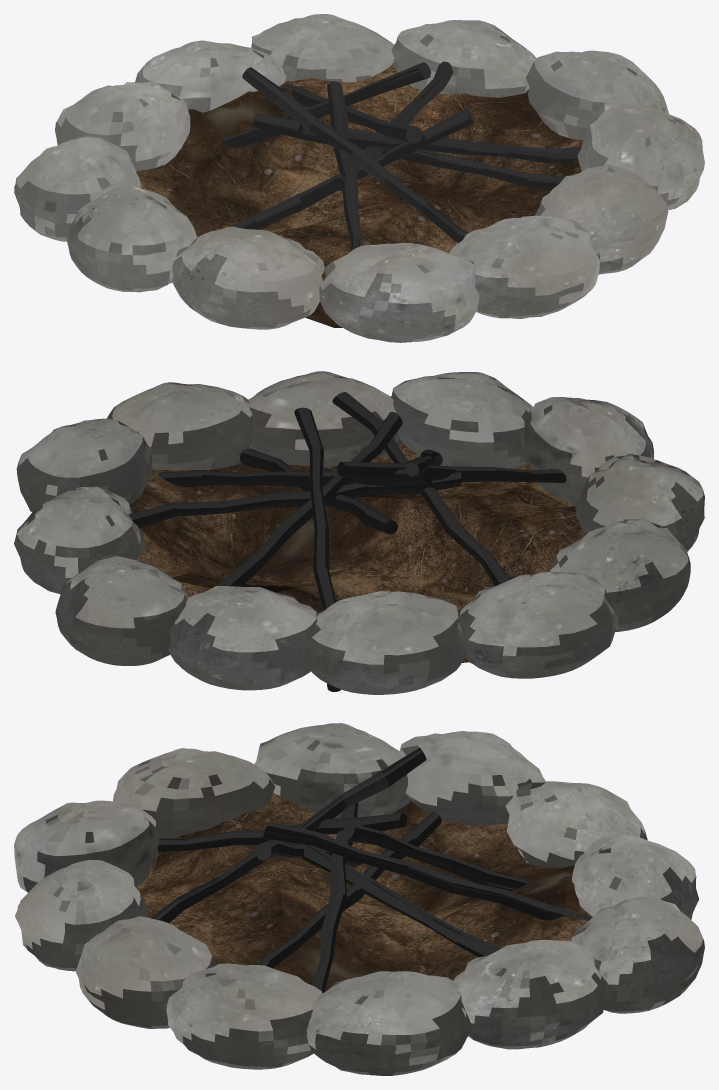
File: bonfire_goty-compressed.fbx
3 renders of one model, top to bottom at view 1: azimuth 30°, elevation 25°; view 2: azimuth 150°, elevation 25°; view 3: azimuth 270°, elevation 25°, orthographic. The views are drawn at different scales.
Visible parts, largest first — view 1: obj2, obj3, obj1; view 2: obj2, obj3, obj1; view 3: obj2, obj3, obj1.
Boxes of the visible parts, left/top/right/bottom form: obj2: left=14, top=14, right=704, bottom=342; obj3: left=136, top=63, right=582, bottom=327; obj1: left=222, top=61, right=581, bottom=250; obj2: left=14, top=371, right=704, bottom=694; obj3: left=130, top=443, right=586, bottom=662; obj1: left=128, top=392, right=566, bottom=691; obj2: left=14, top=723, right=704, bottom=1075; obj3: left=137, top=793, right=592, bottom=991; obj1: left=151, top=747, right=591, bottom=992.
Size of the model in its own units: 876 by 229 by 837.
3 materials, 3 textured.
